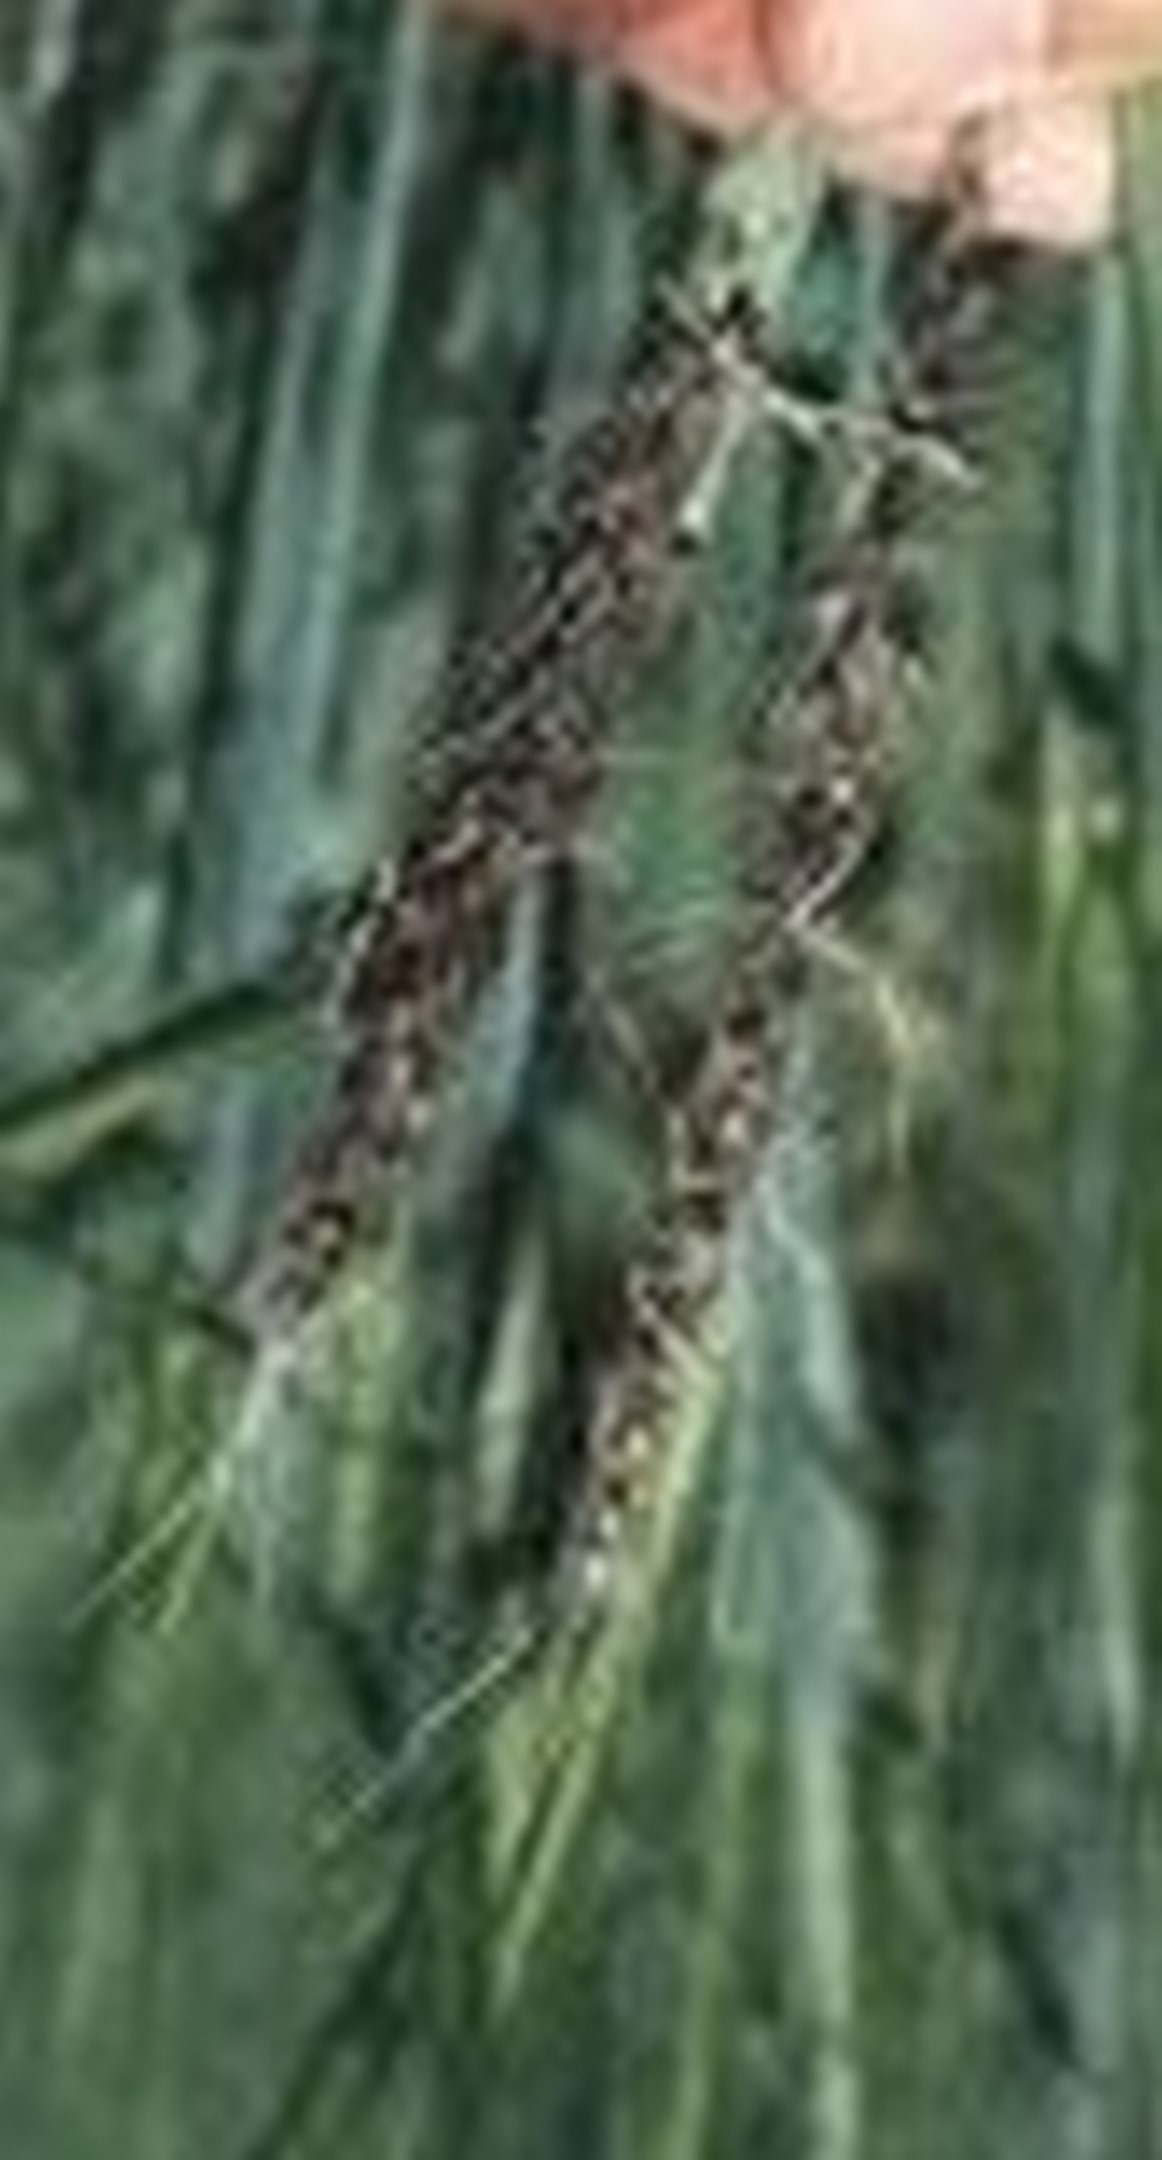Wheat Loose Smut: (196, 289, 954, 1601)
